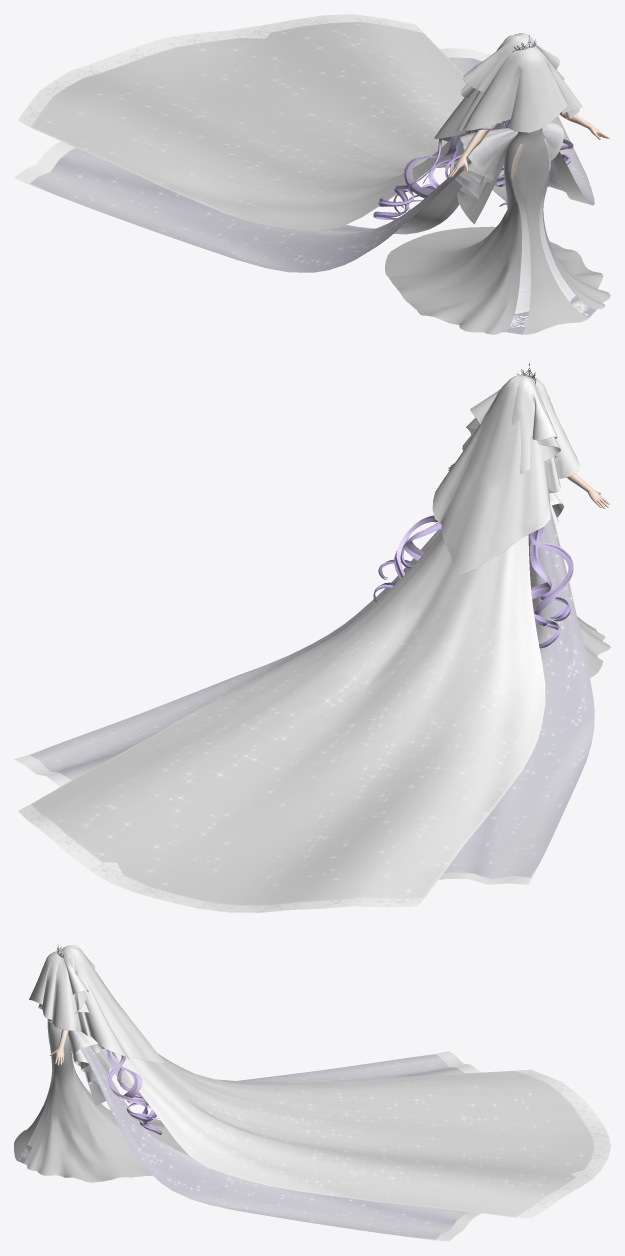
File: Girl_01645_0118.fbx
The picture shows the model from 3 angles, top to bottom: view 1: azimuth 30°, elevation 25°; view 2: azimuth 150°, elevation 25°; view 3: azimuth 270°, elevation 25°; orthographic projection. The views are drawn at different scales.
Visible parts, largest first — view 1: Hair01, Top, Bottom, Hair02, Hair03; view 2: Hair01, Top, Hair02, Hair03, Bottom; view 3: Hair01, Top, Bottom, Hair02, Hair03.
Part boxes in pixels (bbox=[...]): Hair01: bbox=[18, 14, 573, 230]; Top: bbox=[14, 48, 609, 272]; Bottom: bbox=[385, 128, 610, 334]; Hair02: bbox=[434, 34, 582, 141]; Hair03: bbox=[460, 33, 564, 98]; Hair01: bbox=[18, 363, 573, 912]; Top: bbox=[14, 454, 609, 884]; Hair02: bbox=[432, 375, 579, 575]; Hair03: bbox=[466, 375, 560, 473]; Bottom: bbox=[577, 616, 610, 677]; Hair01: bbox=[56, 944, 610, 1218]; Top: bbox=[49, 1010, 481, 1241]; Bottom: bbox=[14, 1019, 182, 1182]; Hair02: bbox=[29, 946, 165, 1063]; Hair03: bbox=[63, 945, 103, 1012].
Bounding box in the file's own units: 7.32 × 3.75 × 9.69.
